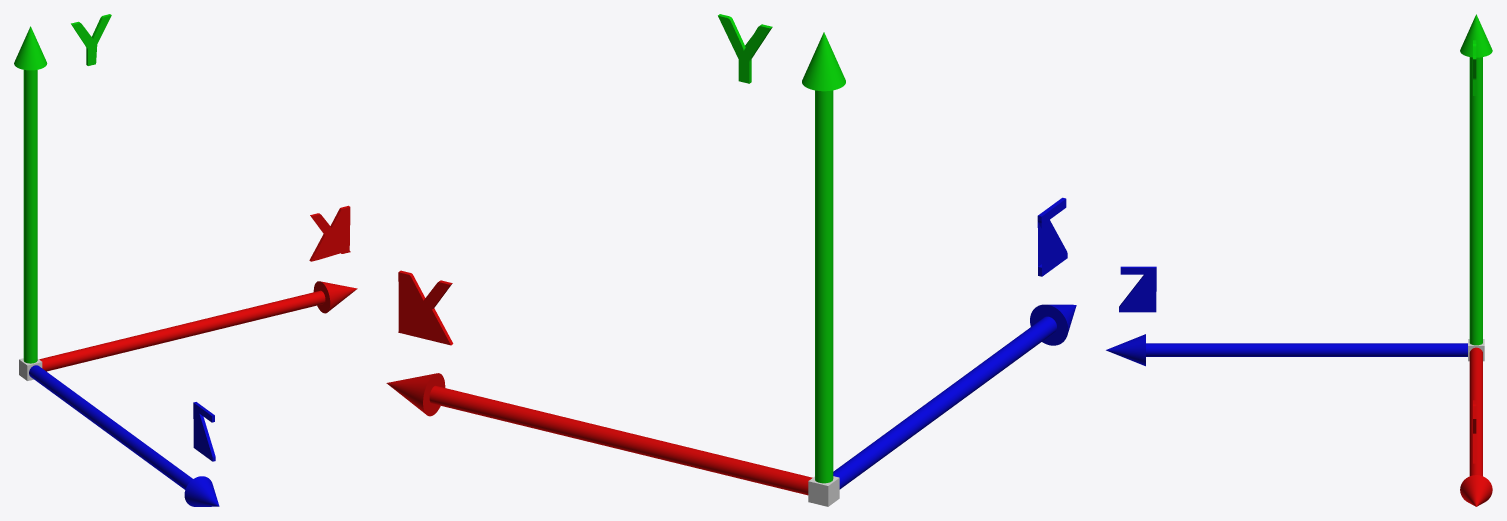
File: axes.fbx
3 renders of one model, left to right at view 1: azimuth 30°, elevation 25°; view 2: azimuth 150°, elevation 25°; view 3: azimuth 270°, elevation 25°, orthographic. The views are drawn at different scales.
Visible parts, largest first — view 1: axes; view 2: axes; view 3: axes.
Part boxes in pixels (x1=…): axes: x1=14, y1=14, x2=357, y2=506; axes: x1=386, y1=14, x2=1076, y2=506; axes: x1=1106, y1=14, x2=1492, y2=506.
Bounding box in the file's own units: 1 × 1 × 1.
